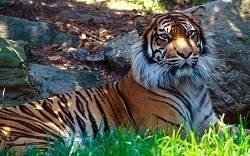tigre: (1, 6, 247, 155)
